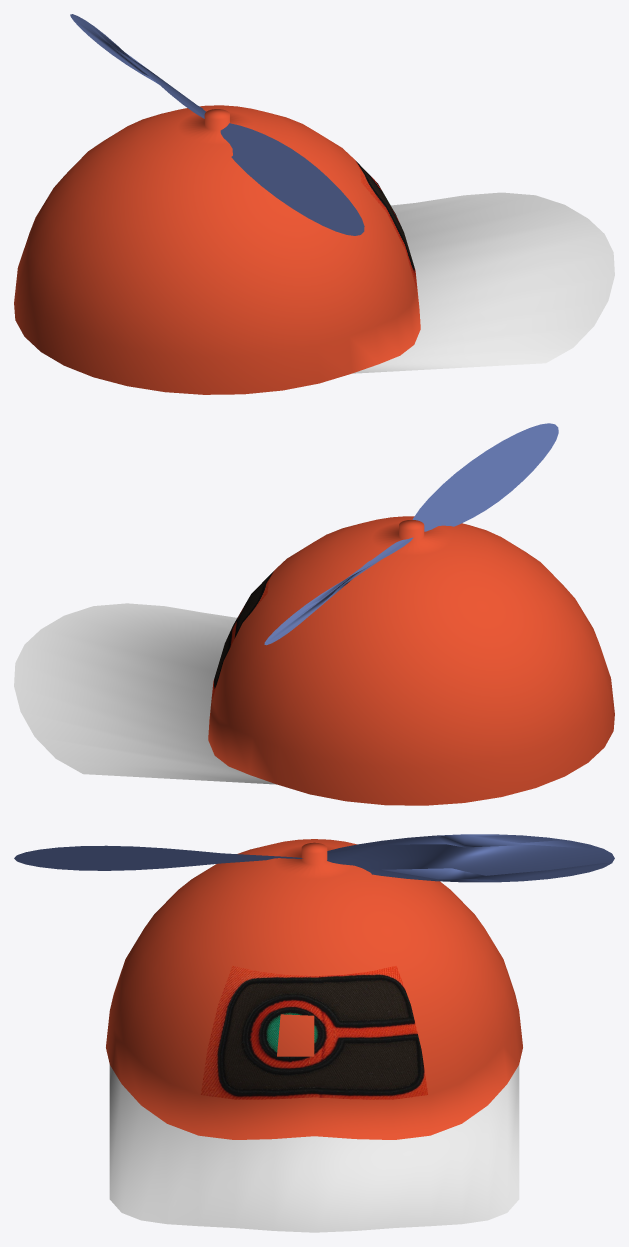
Rendered from HatKetchum.glb.
The picture shows the model from 3 angles, top to bottom: view 1: azimuth 30°, elevation 25°; view 2: azimuth 150°, elevation 25°; view 3: azimuth 270°, elevation 25°; orthographic projection. The views are drawn at different scales.
Parts seen in each view (by area): view 1: Textureable, Circle.007; view 2: Textureable, Circle.007; view 3: Textureable, Circle.007.
Part boxes in pixels (x1,y1,x2,y2): Textureable: (14,105,614,394); Circle.007: (70,14,364,235); Textureable: (14,516,614,805); Circle.007: (264,423,558,645); Textureable: (106,839,522,1232); Circle.007: (14,834,614,882).
Bounding box in the file's own units: 3.1 × 1.29 × 2.88.
Materials: 4 (1 with a texture image).
